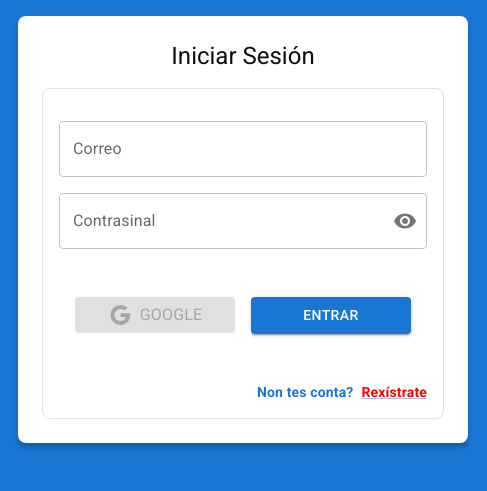
Login Page › should render the backend error message
The width and height of the screenshot is (487, 491).
In the field labelled "Correo": [243, 149] box [59,121,427,177], type "a@a.com"
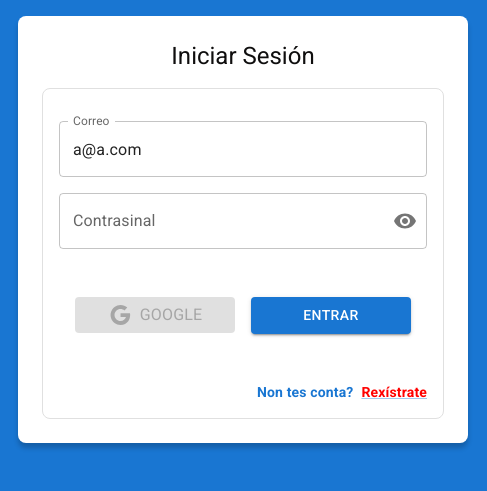
In the password field labelled "Contrasinal": [218, 221] box [59,193,377,249], type "password123Adwr!"
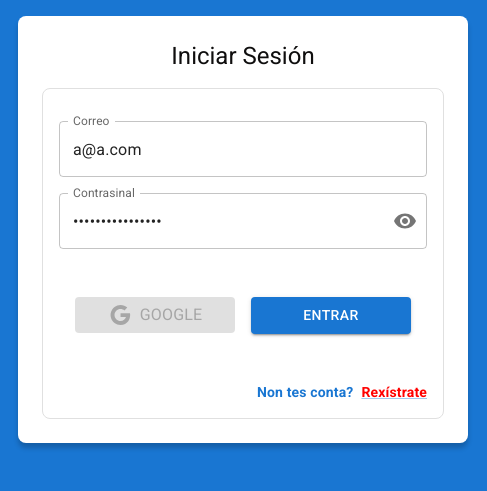
Click the button "Entrar": [331, 315] box [251,297,411,334]
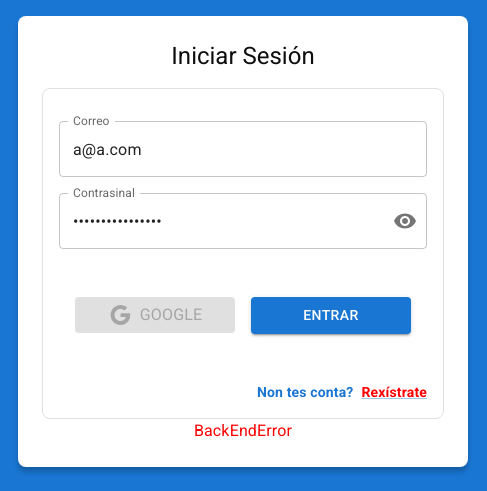
Now the text "BackEndError" is shown, box [194,420,292,440]
